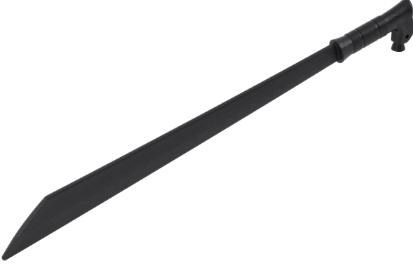MACHETTE: (1, 0, 413, 266)
